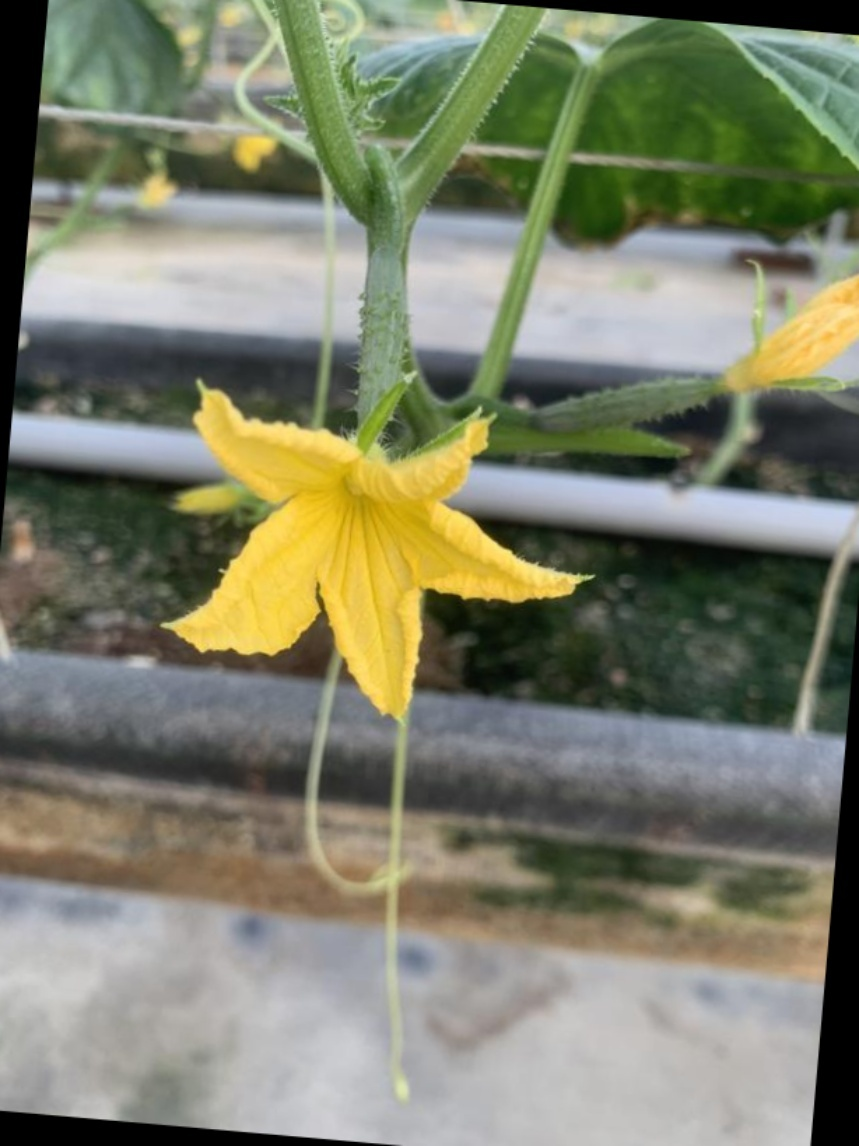bear: (531, 285, 856, 439)
